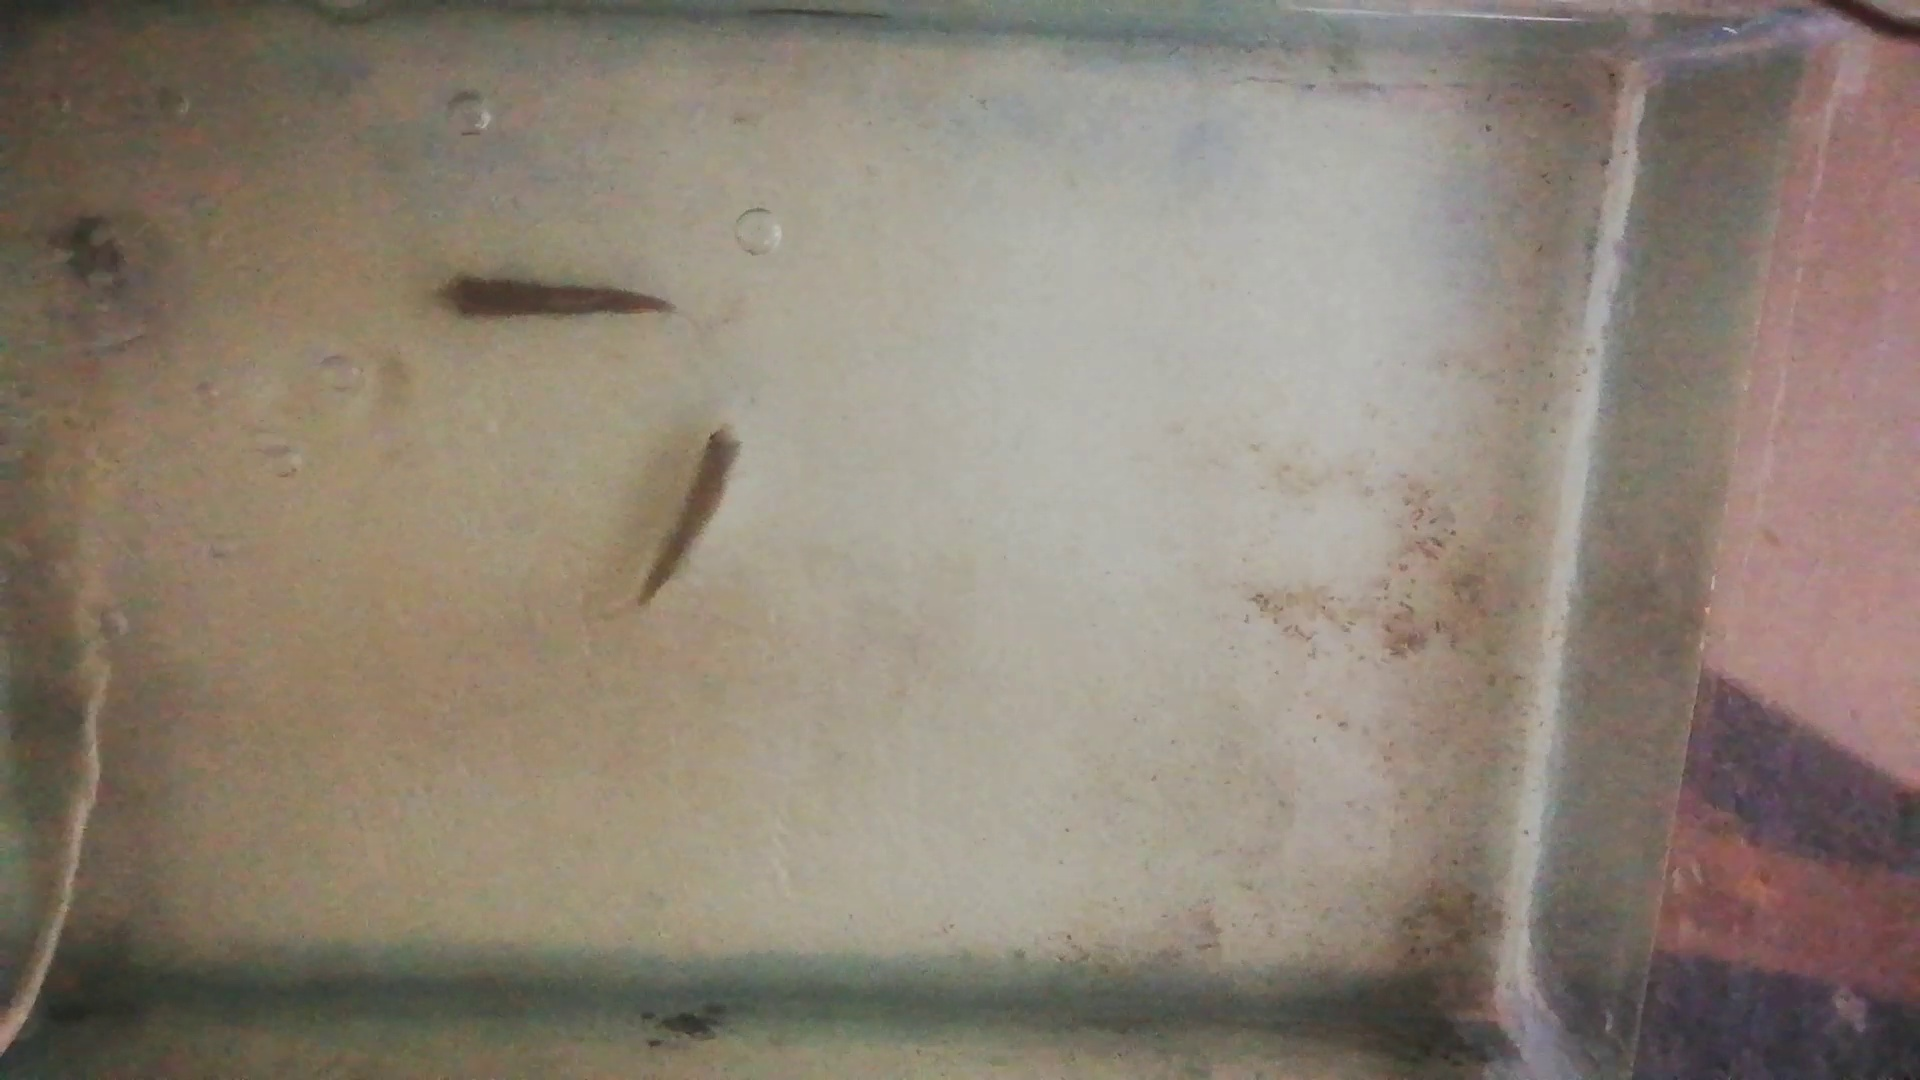fish: (632, 421, 738, 607), (434, 274, 675, 322)
